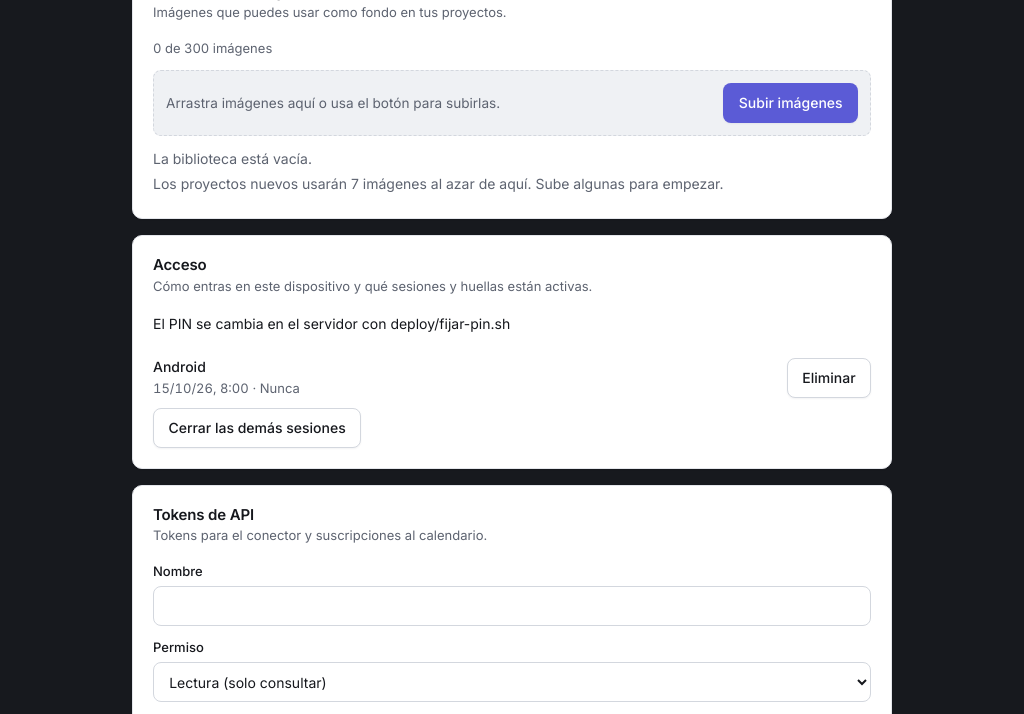
Test case: Ajustes › lista los dispositivos con huella y permite borrarlos
(page scrolled)
Expected: the text "Android" is shown, [153,358,206,375]
Expected: the text "Nunca" is shown, [260,380,300,396]
Click the button "Eliminar" at (829, 378), box [787,358,871,398]
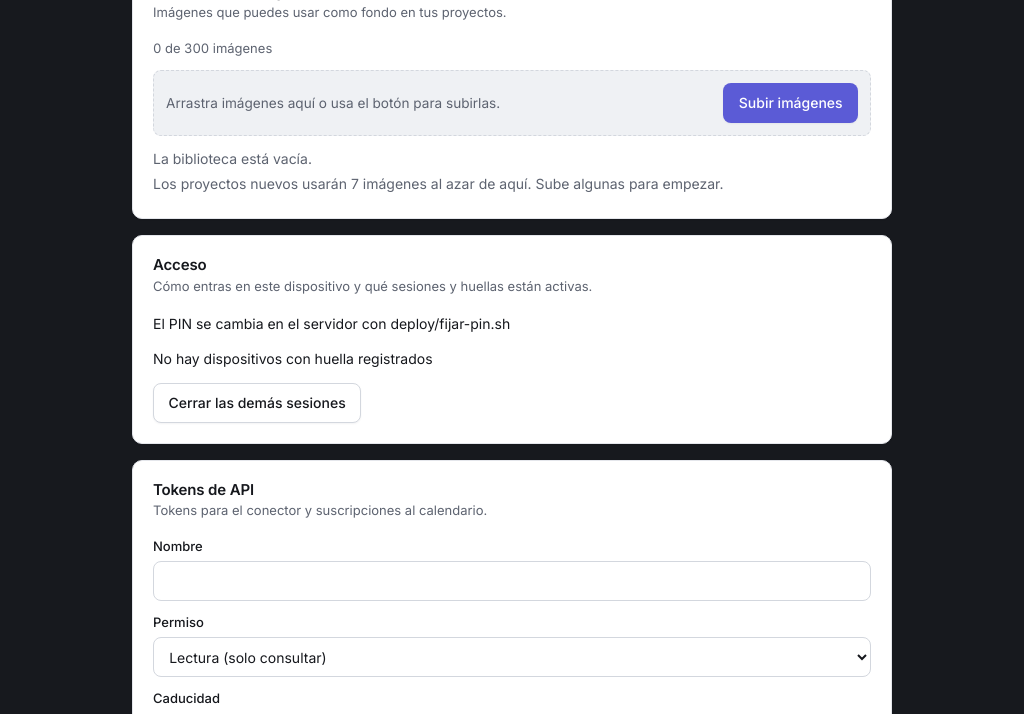
Result: the text "No hay dispositivos con huella registrados" is shown at [153,350,432,366]
